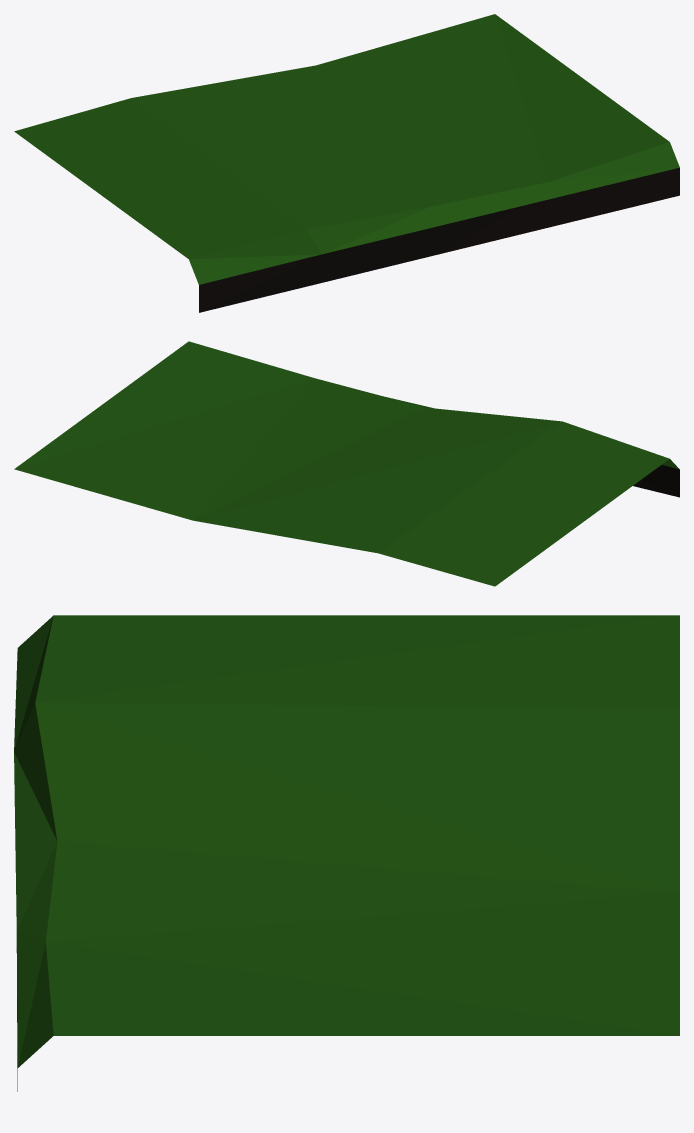
Rendered from 2D_Island_Top_2B.fbx.
3 views of the same model, one above another, from view 1: azimuth 30°, elevation 25°; view 2: azimuth 150°, elevation 25°; view 3: azimuth 270°, elevation 25° (orthographic). The views are drawn at different scales.
Visible parts, largest first — view 1: 2D_Island_Top_2B; view 2: 2D_Island_Top_2B; view 3: 2D_Island_Top_2B.
Part boxes in pixels (box(x1,y1,x2,y2)): 2D_Island_Top_2B: box(14, 14, 679, 312); 2D_Island_Top_2B: box(14, 341, 679, 586); 2D_Island_Top_2B: box(14, 615, 679, 1091).
Bounding box in the file's own units: 1303 × 135 × 872.
